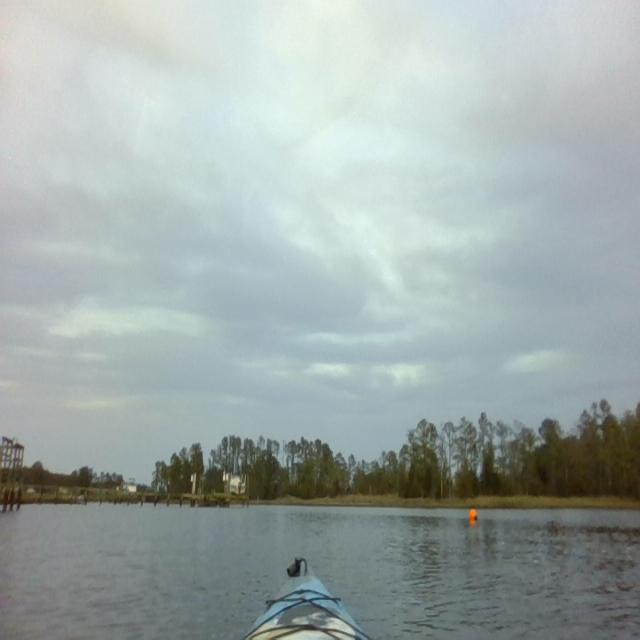Buoy: (467, 506, 480, 525)
